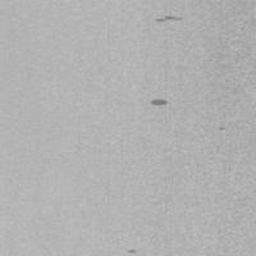Inclusion: (154, 15, 186, 23), (151, 97, 168, 106), (127, 248, 138, 255)
